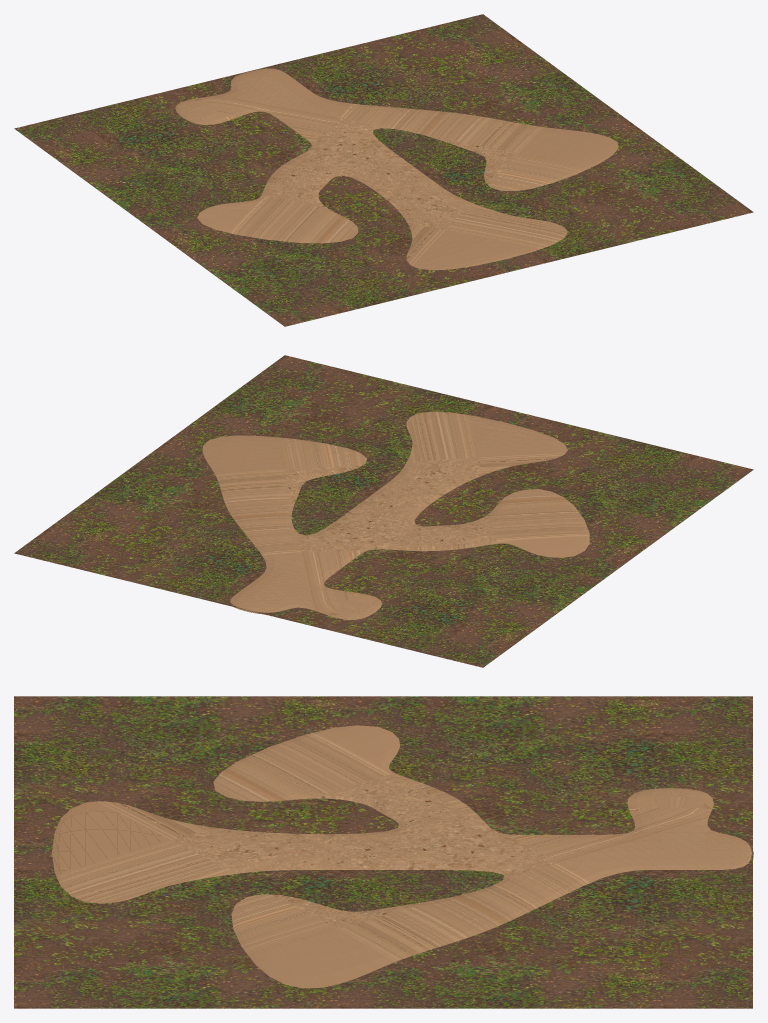
File: pinkroomwef.fbx
3 renders of one model, top to bottom at view 1: azimuth 30°, elevation 25°; view 2: azimuth 150°, elevation 25°; view 3: azimuth 270°, elevation 25°, orthographic. The views are drawn at different scales.
Parts seen in each view (by area): view 1: Plane, Plane.001; view 2: Plane, Plane.001; view 3: Plane, Plane.001.
Part boxes in pixels (<box>): Plane: <box>14,14,753,326</box>; Plane.001: <box>175,68,618,270</box>; Plane: <box>14,355,753,667</box>; Plane.001: <box>202,411,589,619</box>; Plane: <box>14,696,752,1008</box>; Plane.001: <box>51,725,753,988</box>.
Bounding box in the file's own units: 1000 × 8.71 × 1001.
